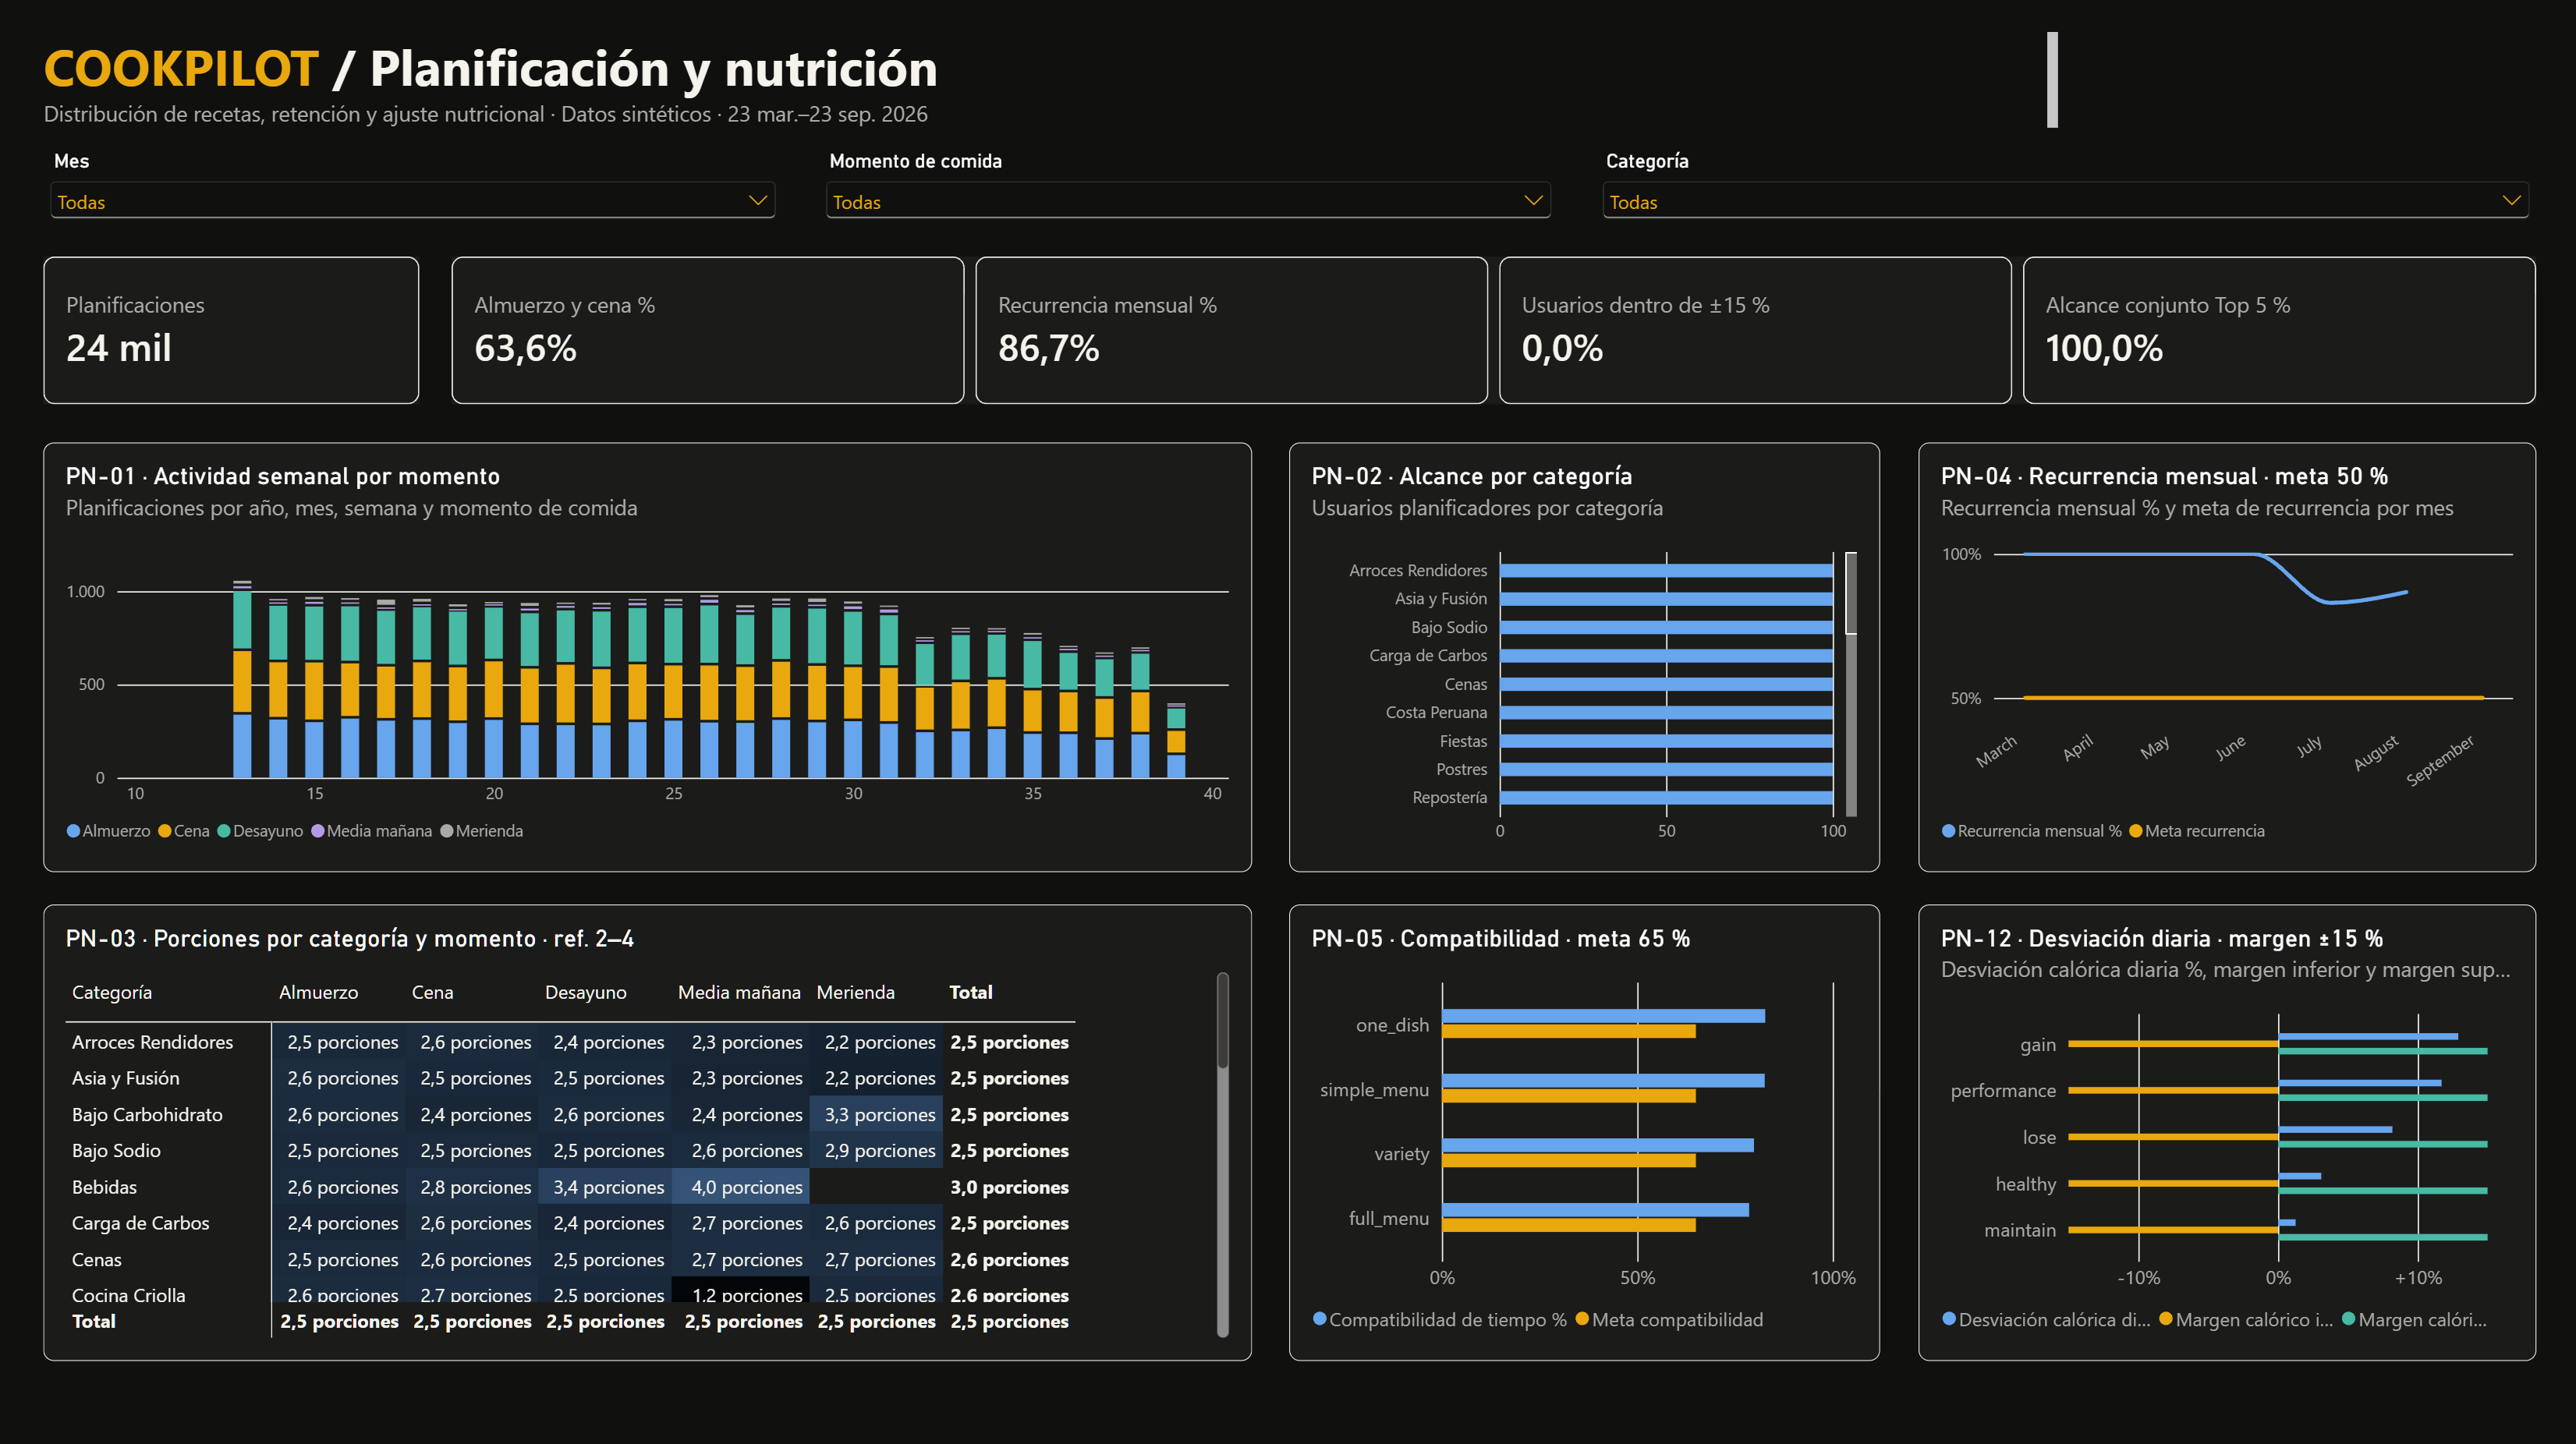

The dashboard page shown, as its layout file describes it:
{"tool":"powerbi","page":{"name":"Planificación y nutrición","canvas":[1920,1080],"ordinal":0},"visuals":[{"type":"cardVisual","fields":{"Data":["fact_planning.Planificaciones"]},"box":[32,192,280,110],"z":0},{"type":"textbox","box":[32,23.8,1465.2,97],"z":1},{"type":"columnChart","title":"PN-01 · Actividad semanal por momento","fields":{"Category":["dim_date.Tiempo.Año","dim_date.Tiempo.Mes","dim_date.Tiempo.Semana","dim_date.Tiempo.Fecha"],"Series":["dim_meal_moment.meal_moment_name"],"Y":["fact_planning.Planificaciones"]},"box":[32,330,900,320],"z":2},{"type":"clusteredBarChart","title":"PN-02 · Alcance por categoría","fields":{"Category":["dim_category.category_name"],"Y":["fact_planning.Usuarios planificadores"]},"box":[960,330,440,320],"z":3},{"type":"lineChart","title":"PN-04 · Recurrencia mensual · meta 50 %","fields":{"Category":["dim_date.month_name"],"Y":["fact_planning.Recurrencia mensual %","fact_planning.Meta recurrencia"]},"box":[1428,330,460,320],"z":4},{"type":"pivotTable","title":"PN-03 · Porciones por categoría y momento · ref. 2–4","fields":{"Columns":["dim_meal_moment.meal_moment_name"],"Rows":["dim_category.category_name"],"Values":["fact_planning.Porciones promedio"]},"box":[32,674,900,340],"z":5},{"type":"clusteredBarChart","title":"PN-05 · Compatibilidad · meta 65 %","fields":{"Category":["dim_user.result_type"],"Y":["fact_planning.Compatibilidad de tiempo %","fact_planning.Meta compatibilidad"]},"box":[960,674,440,340],"z":6},{"type":"cardVisual","title":"PN-12 · Desviación diaria · margen ±15 %","fields":{"Data":["fact_planning.Almuerzo y cena %","fact_planning.Recurrencia mensual %","fact_planning.Usuarios dentro de ±15 %","fact_planning.Alcance conjunto Top 5 %"]},"box":[336,192,1552,110],"z":7},{"type":"clusteredBarChart","title":"PN-12 · Desviación diaria · margen ±15 %","fields":{"Category":["dim_user.nutrition_goal_type"],"Y":["fact_planning.Desviación calórica diaria %","fact_planning.Margen calórico inferior","fact_planning.Margen calórico superior"]},"box":[1428,674,460,340],"z":8},{"type":"slicer","fields":{"Values":["dim_date.month_name"]},"box":[32,112,550,65],"z":9},{"type":"slicer","fields":{"Values":["dim_meal_moment.meal_moment_name"]},"box":[610,112,550,65],"z":10},{"type":"slicer","fields":{"Values":["dim_category.category_name"]},"box":[1188,112,700,65],"z":11}]}

Visuals, with their boxes in screenshot pixels (x1, y1, x2, y2), scaled from the page's 1920x1080 canvas onto the 2576x1444 screenshot:
cardVisual - fact_planning.Planificaciones: box(43, 257, 419, 404)
textbox: box(43, 32, 2009, 161)
"PN-01 · Actividad semanal por momento" columnChart: box(43, 441, 1250, 869)
"PN-02 · Alcance por categoría" clusteredBarChart: box(1288, 441, 1878, 869)
"PN-04 · Recurrencia mensual · meta 50 %" lineChart: box(1916, 441, 2533, 869)
"PN-03 · Porciones por categoría y momento · ref. 2–4" pivotTable: box(43, 901, 1250, 1356)
"PN-05 · Compatibilidad · meta 65 %" clusteredBarChart: box(1288, 901, 1878, 1356)
"PN-12 · Desviación diaria · margen ±15 %" cardVisual: box(451, 257, 2533, 404)
"PN-12 · Desviación diaria · margen ±15 %" clusteredBarChart: box(1916, 901, 2533, 1356)
slicer - dim_date.month_name: box(43, 150, 781, 237)
slicer - dim_meal_moment.meal_moment_name: box(818, 150, 1557, 237)
slicer - dim_category.category_name: box(1594, 150, 2533, 237)
